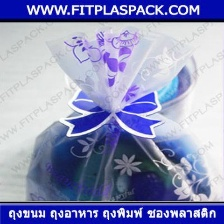snack: (16, 21, 218, 201)
